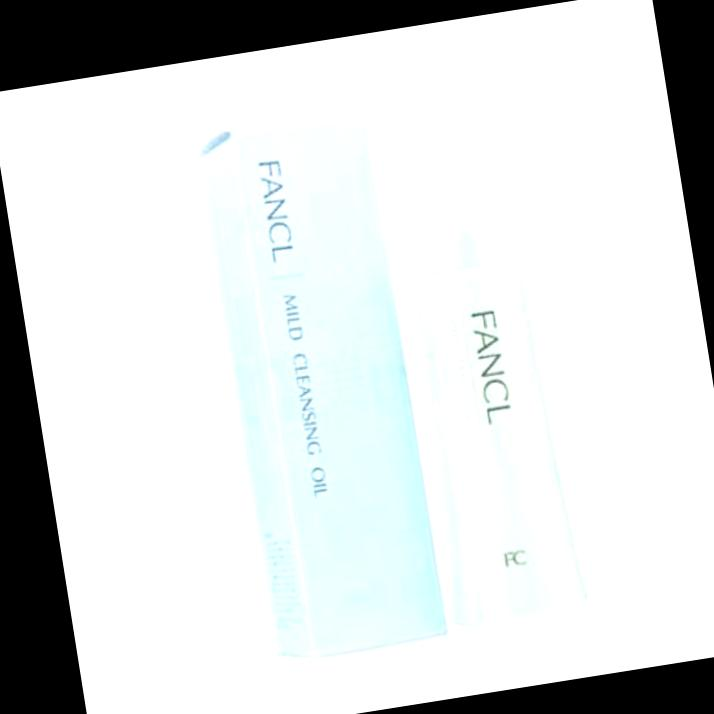cosmetic: (376, 107, 602, 625)
